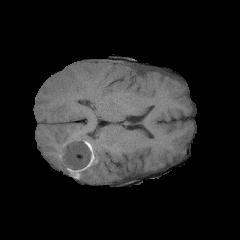glioma: (46, 62, 161, 178)
